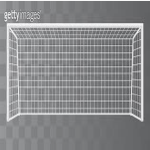goals: (6, 21, 144, 123)
